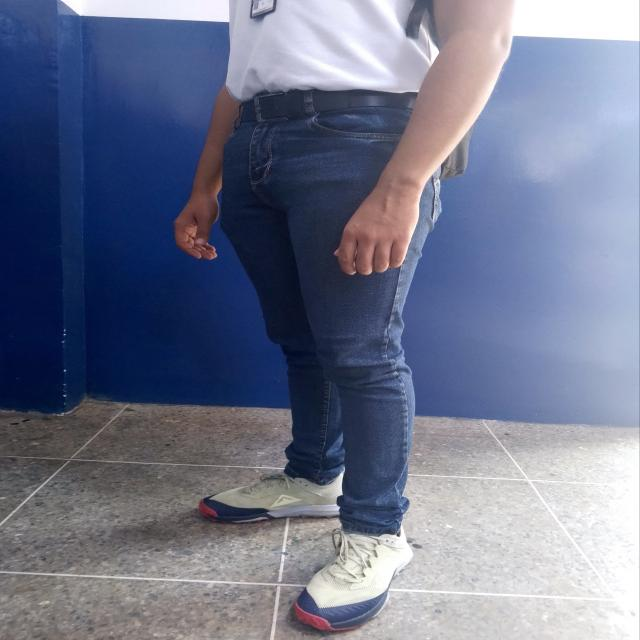carnet: (249, 0, 275, 16)
pantalon_oscuro: (219, 108, 444, 536)
